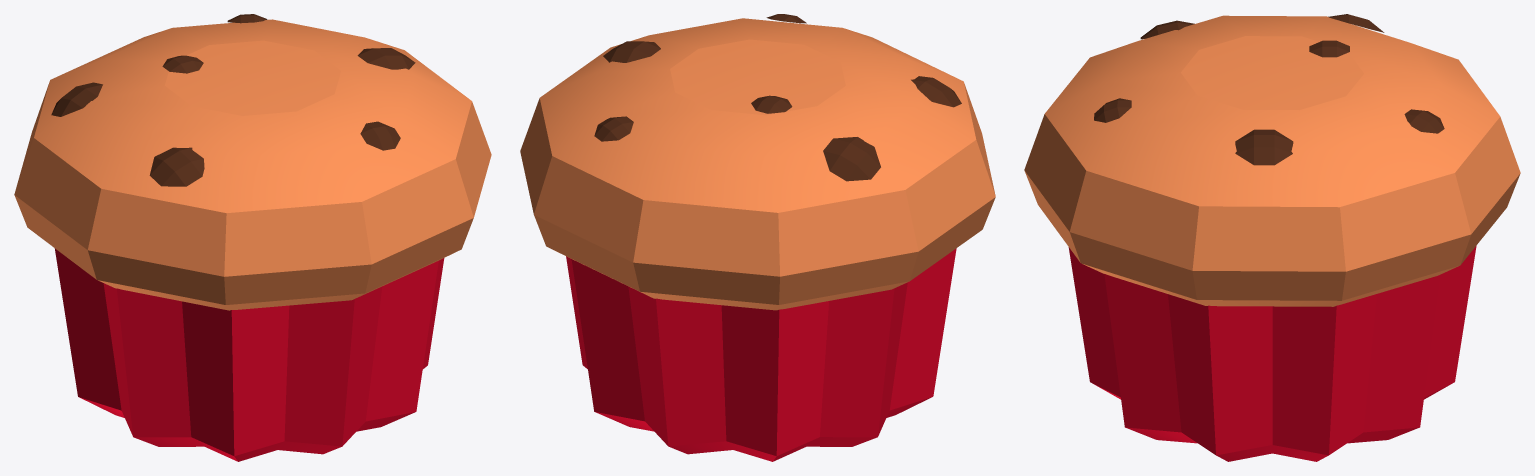
The model's file is PW_cupcake_chocolattechips.fbx.
The picture shows the model from 3 angles, left to right: view 1: azimuth 30°, elevation 25°; view 2: azimuth 150°, elevation 25°; view 3: azimuth 270°, elevation 25°; orthographic projection. The views are drawn at different scales.
Parts seen in each view (by area): view 1: cupcake_chocolattechips; view 2: cupcake_chocolattechips; view 3: cupcake_chocolattechips.
Part boxes in pixels (x1,y1,x2,y2): cupcake_chocolattechips: (14,14,491,461); cupcake_chocolattechips: (520,14,995,461); cupcake_chocolattechips: (1024,14,1520,461).
Bounding box in the file's own units: 18.97 × 15 × 19.86.
1 material, 1 textured.
